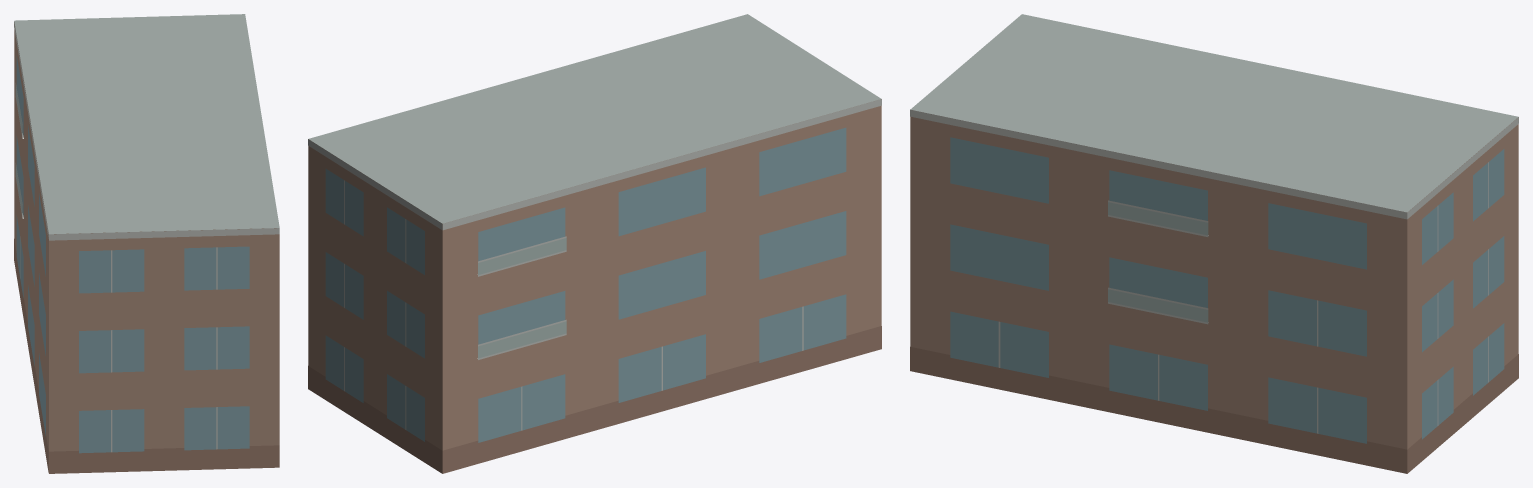
File: survey-upis-32930663.glb
3 views of the same model, side by side, from view 1: azimuth 30°, elevation 25°; view 2: azimuth 150°, elevation 25°; view 3: azimuth 270°, elevation 25° (orthographic). The views are drawn at different scales.
Visible parts, largest first — view 1: survey-upis-32930663.tmp; view 2: survey-upis-32930663.tmp; view 3: survey-upis-32930663.tmp.
Boxes of the visible parts, x1,y1,x2,y2 form: survey-upis-32930663.tmp: (14, 14, 279, 473); survey-upis-32930663.tmp: (308, 14, 881, 473); survey-upis-32930663.tmp: (910, 14, 1518, 473).
Size of the model in its own units: 14.91 by 9.15 by 19.32.
